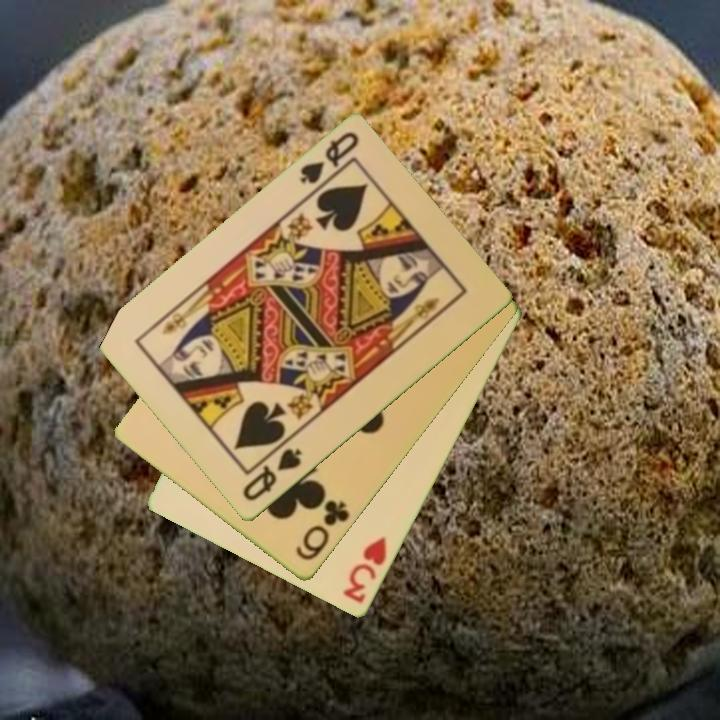3h: (339, 534, 390, 607)
6c: (292, 497, 353, 565)
Qs: (296, 128, 362, 198), (239, 445, 306, 505)
